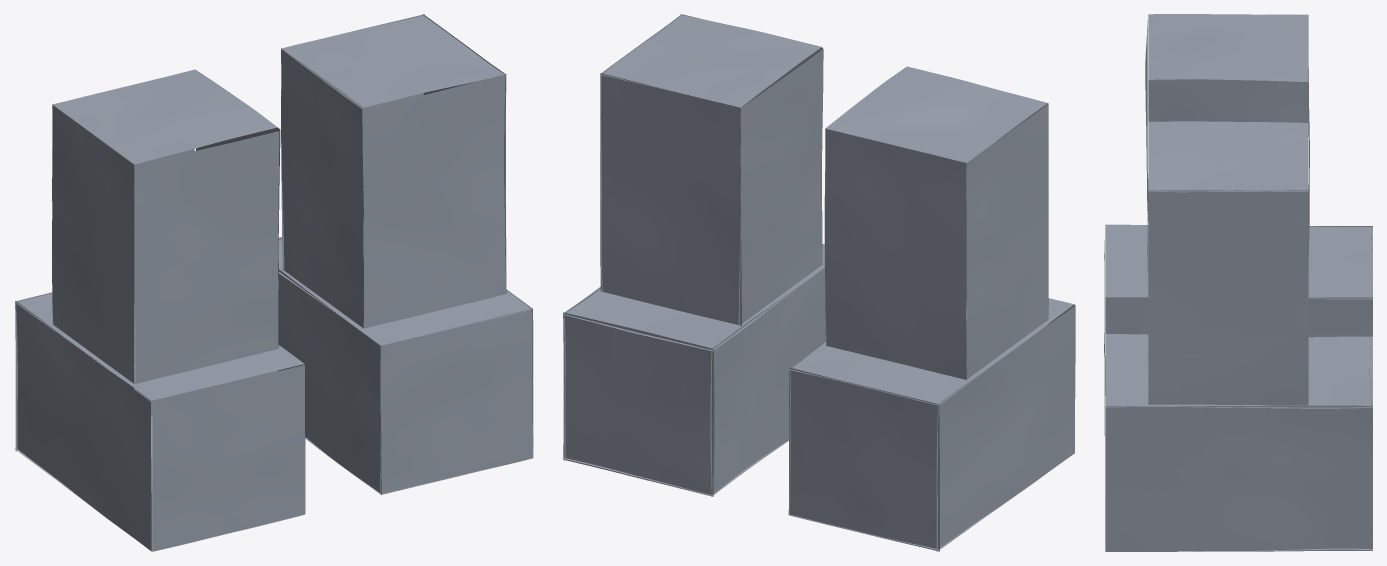
The model's file is boots.glb.
The picture shows the model from 3 angles, left to right: view 1: azimuth 30°, elevation 25°; view 2: azimuth 150°, elevation 25°; view 3: azimuth 270°, elevation 25°; orthographic projection. The views are drawn at different scales.
Visible parts, largest first — view 1: BootLeft; view 2: BootLeft; view 3: BootLeft.
Part boxes in pixels (left/top/right/bottom): BootLeft: left=15, top=14, right=533, bottom=551; BootLeft: left=562, top=14, right=1075, bottom=551; BootLeft: left=1104, top=14, right=1372, bottom=551.
Bounding box in the file's own units: 0.8023 × 0.7485 × 0.5023.
